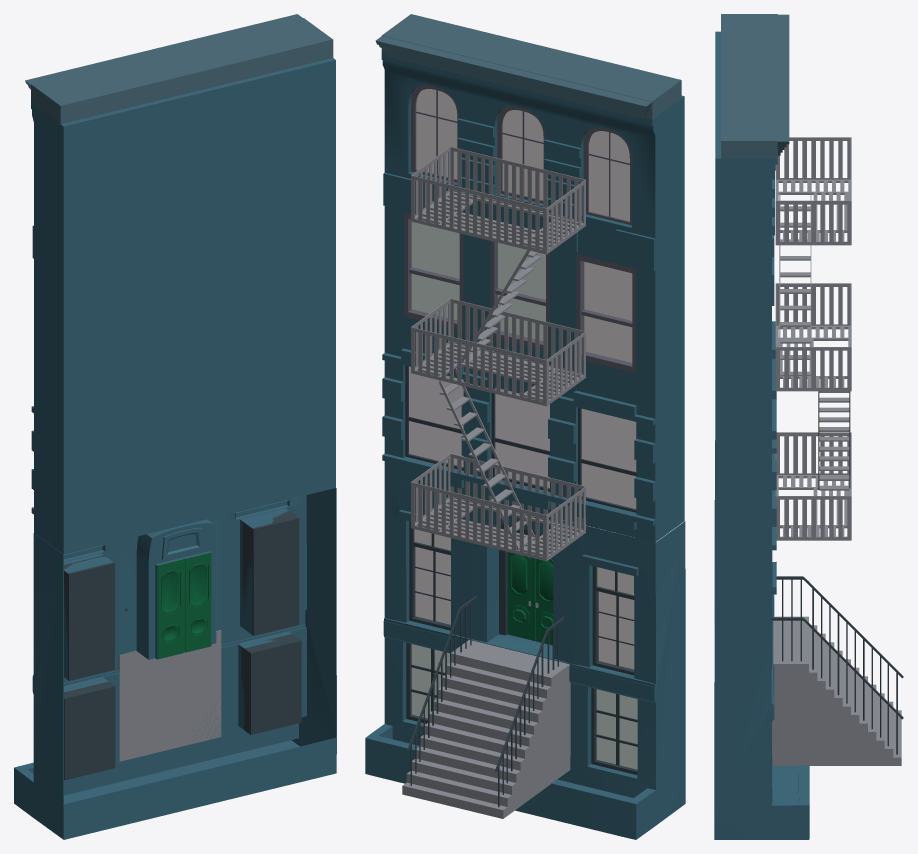
3 renders of one model, left to right at view 1: azimuth 30°, elevation 25°; view 2: azimuth 150°, elevation 25°; view 3: azimuth 270°, elevation 25°, orthographic. The views are drawn at different scales.
Visible parts, largest first — view 1: Etage005; view 2: Etage005, esacalier, esca01; view 3: Etage005, esacalier, esca01.
Boxes of the visible parts, x1=… form: Etage005: x1=14, y1=14, x2=336, y2=839; Etage005: x1=365, y1=14, x2=685, y2=839; esacalier: x1=411, y1=298, x2=585, y2=561; esca01: x1=411, y1=146, x2=585, y2=363; Etage005: x1=714, y1=14, x2=903, y2=839; esacalier: x1=775, y1=283, x2=851, y2=540; esca01: x1=775, y1=137, x2=851, y2=375.
Bounding box in the file's own units: 316 × 808 × 198.
